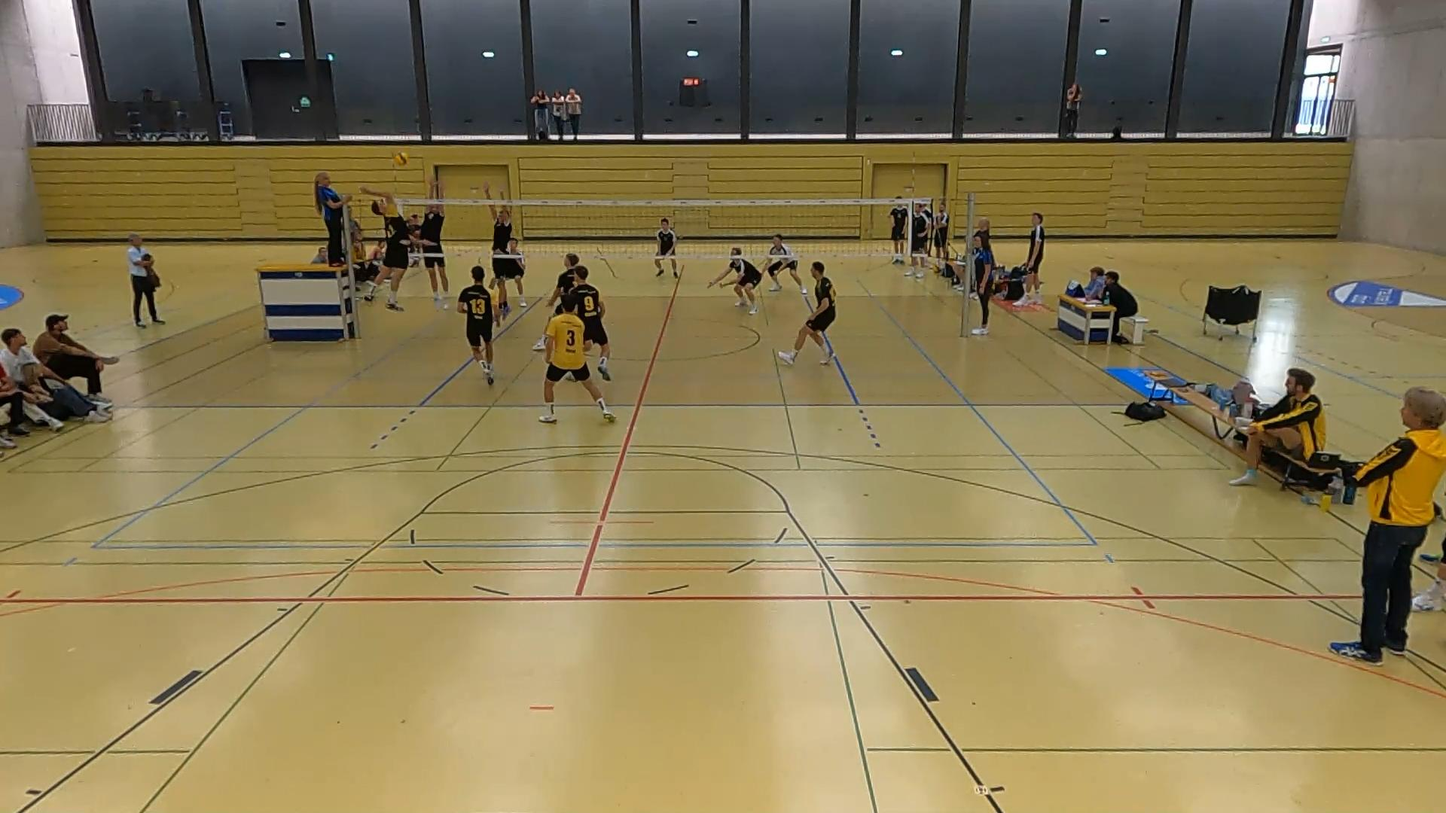Attack: (346, 184, 429, 320)
Block: (483, 179, 518, 320), (419, 174, 452, 311)
Player: (539, 294, 615, 423), (777, 262, 835, 364), (457, 265, 500, 384), (572, 265, 609, 380), (707, 247, 761, 315), (765, 234, 807, 294), (493, 238, 526, 307), (544, 253, 579, 315), (654, 218, 678, 277)
ball: (390, 148, 410, 167)
